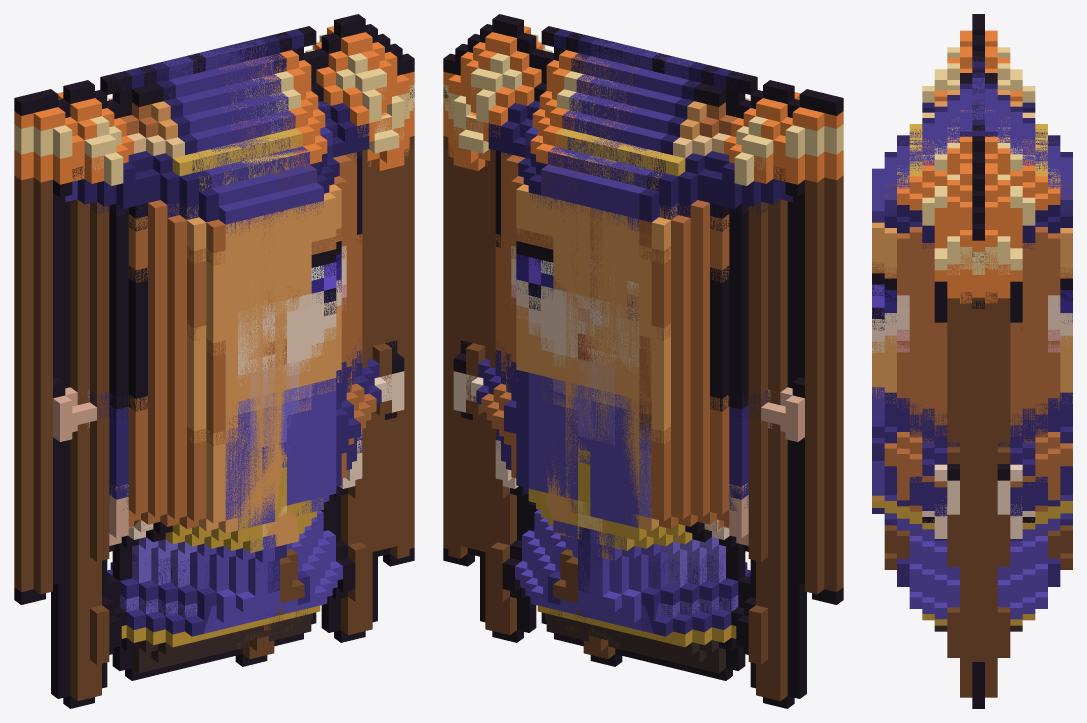
Rendered from player.glb.
3 renders of one model, left to right at view 1: azimuth 30°, elevation 25°; view 2: azimuth 150°, elevation 25°; view 3: azimuth 270°, elevation 25°, orthographic. The views are drawn at different scales.
Visible parts, largest first — view 1: f7, f0, f8, f1, f13, f9, f6, f14, f20, f18, f4, f11 (+3 smaller); view 2: f0, f7, f8, f1, f13, f14, f11, f6, f9, f20, f18, f16 (+3 smaller); view 3: f0, f6, f1, f16, f2, f7, f18, f20, f14, f8, f4, f15 (+1 smaller).
Boxes of the visible parts, x1,y1,x2,y2 form: f7: (51, 44, 311, 687); f0: (72, 14, 402, 677); f8: (51, 62, 311, 708); f1: (58, 26, 397, 642); f13: (14, 89, 295, 604); f9: (51, 199, 298, 680); f6: (238, 53, 414, 616); f14: (108, 38, 332, 665); f20: (234, 85, 414, 631); f18: (107, 32, 337, 673); f4: (113, 155, 377, 674); f11: (51, 203, 311, 699); f0: (455, 14, 785, 677); f7: (541, 46, 806, 688); f8: (537, 62, 806, 708); f1: (457, 26, 799, 642); f13: (615, 89, 843, 606); f14: (525, 38, 749, 665); f11: (541, 202, 806, 699); f6: (443, 53, 590, 617); f9: (551, 200, 806, 680); f20: (443, 86, 629, 638); f18: (520, 32, 750, 673); f16: (515, 41, 682, 648); f0: (872, 89, 1072, 691); f6: (872, 179, 1072, 673); f1: (872, 105, 1072, 708); f16: (884, 101, 1072, 619); f2: (872, 232, 1072, 679); f7: (872, 35, 1072, 199); f18: (885, 112, 1072, 210); f20: (934, 247, 1022, 463); f14: (872, 77, 1072, 199); f8: (872, 56, 1072, 522); f4: (872, 232, 1072, 702); f15: (872, 51, 1072, 189).
Size of the model in its own units: 2 by 3 by 1.
